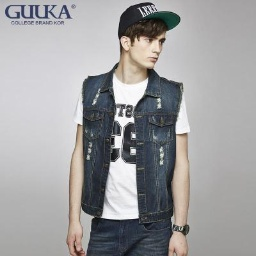face: (115, 22, 168, 71)
